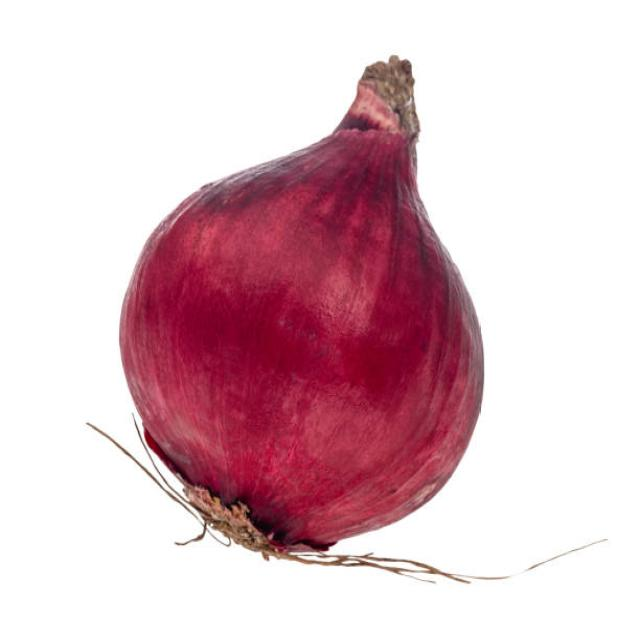onion: (115, 109, 483, 563)
